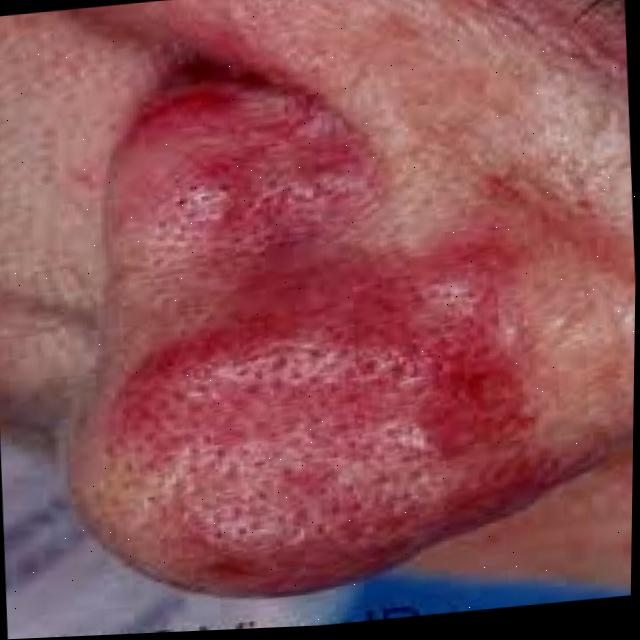Rosacea: (88, 188, 533, 595)
